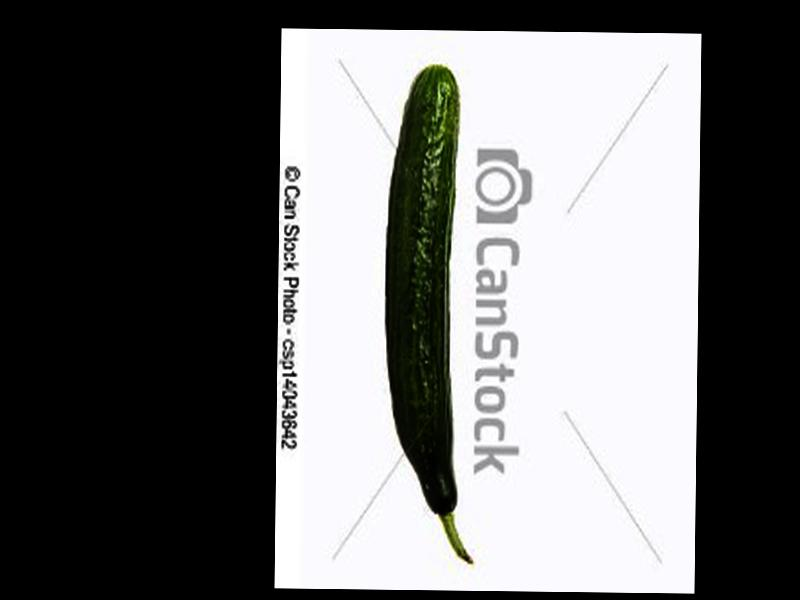Cucumber: (381, 67, 476, 566)
